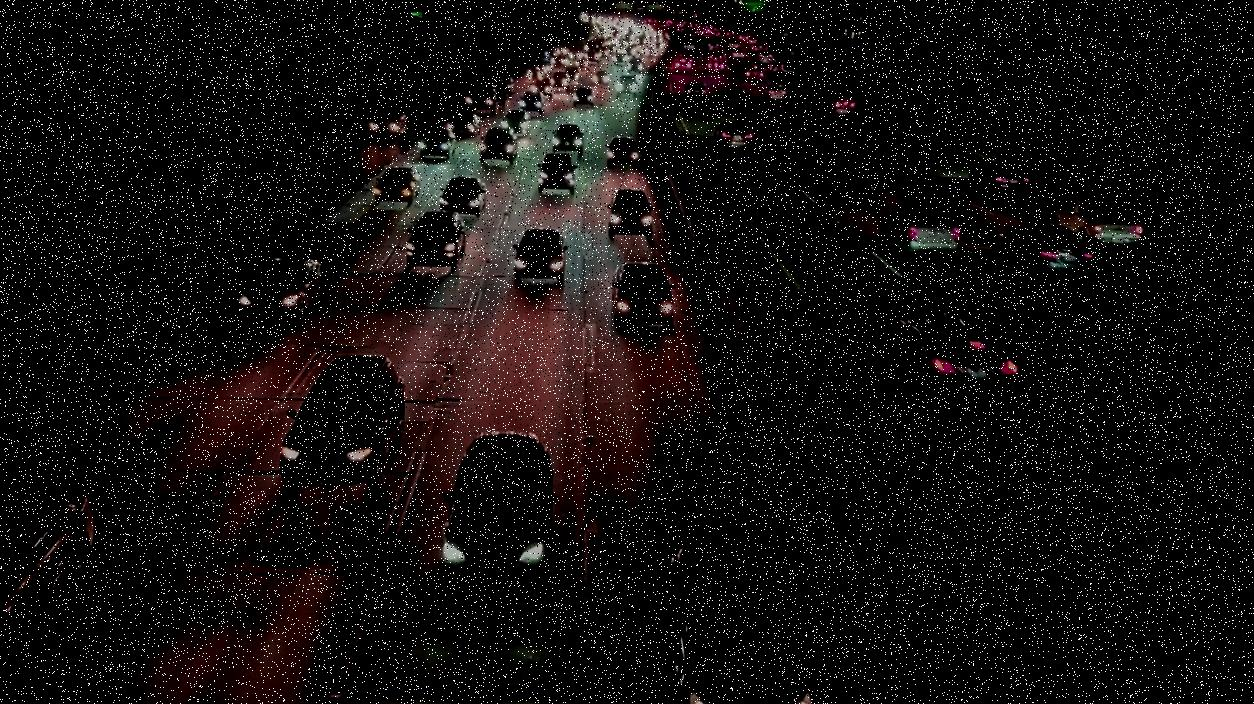car: (664, 540, 808, 704), (441, 430, 556, 591), (0, 488, 98, 657), (280, 353, 400, 483), (889, 312, 1011, 405), (237, 258, 325, 319), (994, 227, 1092, 276), (612, 261, 679, 329), (879, 202, 963, 255), (406, 211, 468, 270), (511, 231, 566, 283), (605, 189, 654, 239), (970, 163, 1033, 196), (441, 176, 487, 215), (373, 166, 420, 202), (538, 153, 578, 194), (712, 121, 756, 150), (550, 124, 586, 154), (606, 136, 640, 165), (764, 84, 788, 102), (681, 83, 706, 100)
